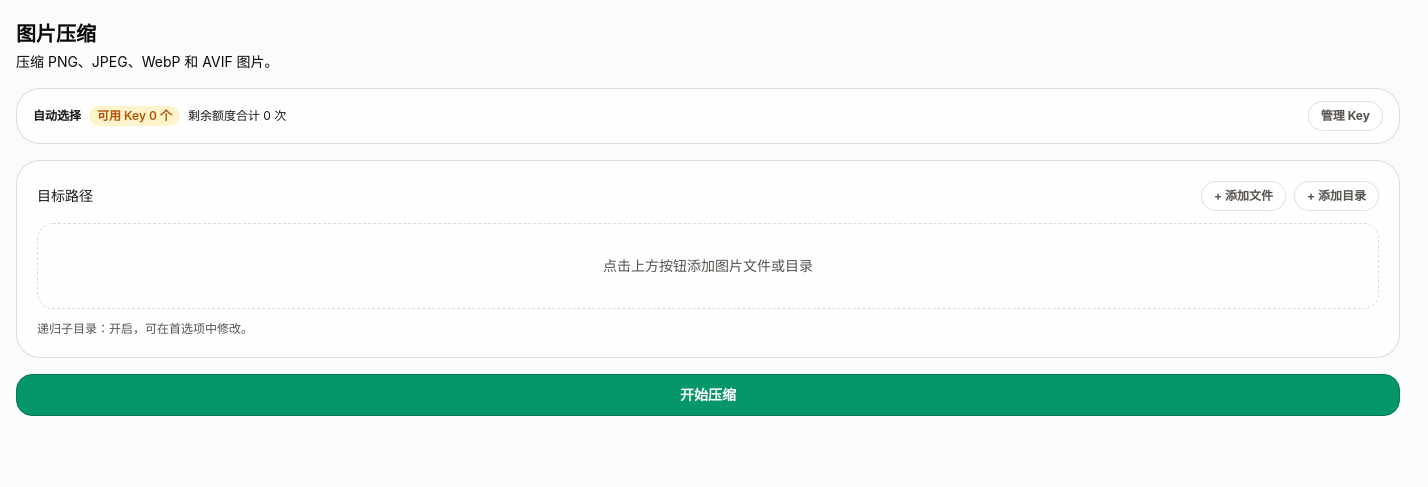
Scenario: TinyPNG › clears paths only after a fully successful task
Click the button "+ 添加文件" at (1244, 196), box [1201,181,1286,211]
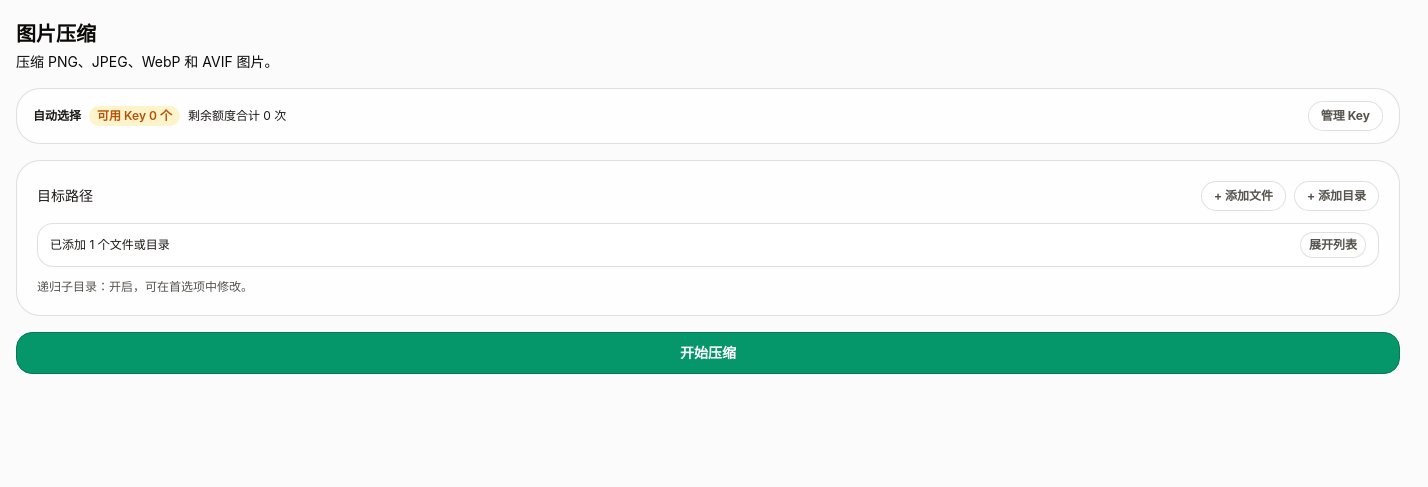
Expected: the text "已添加 1 个文件或目录" is shown, [50,237,170,253]
Click the button "开始压缩" at (708, 353), box [16,332,1400,374]
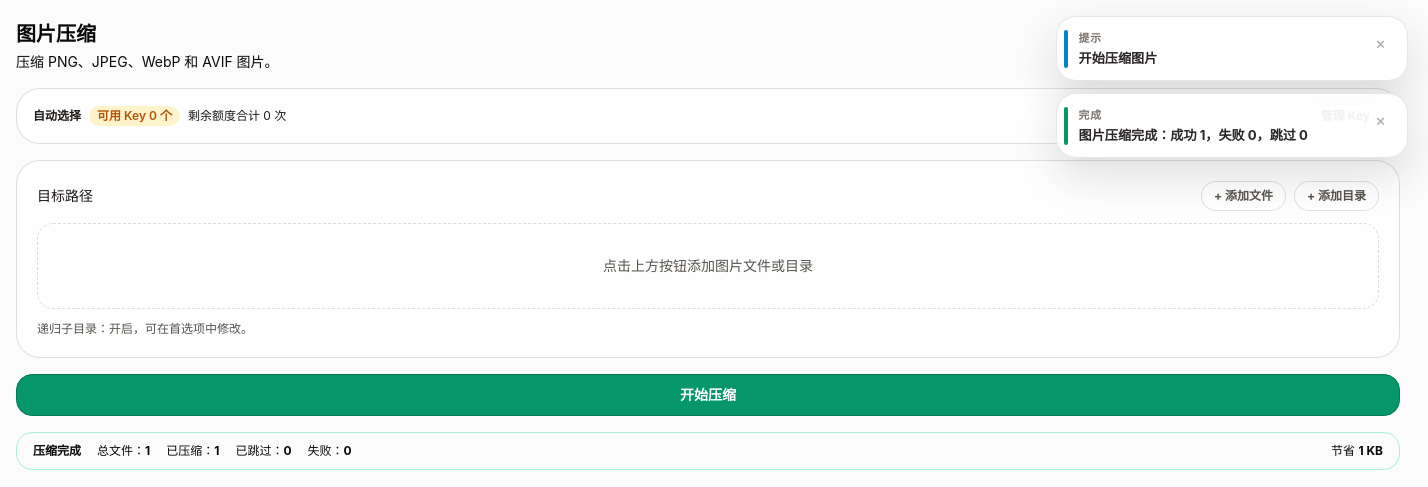
Expected: the text "点击上方按钮添加图片文件或目录" is shown, [37,223,1379,309]
